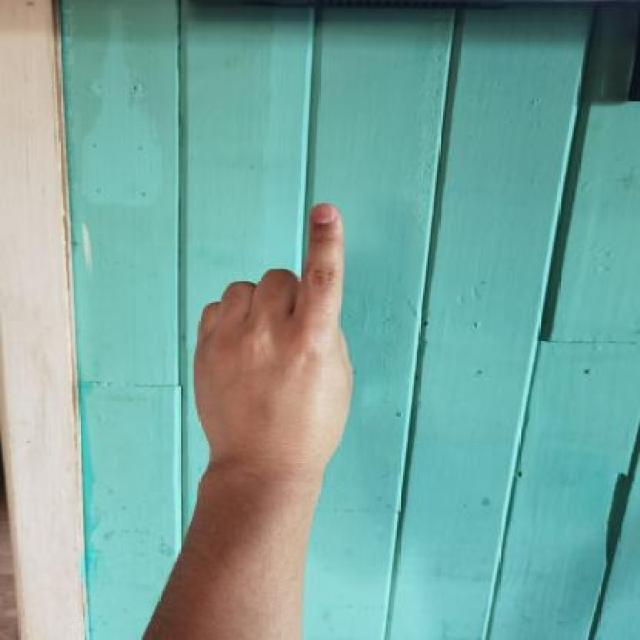T: (182, 202, 356, 473)
